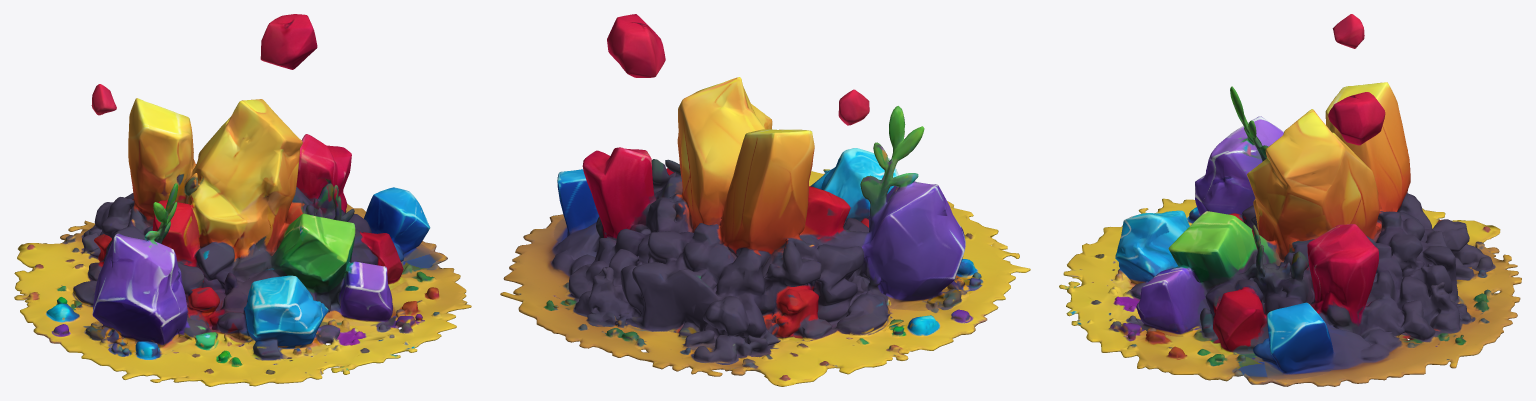
Rendered from GemFloating.fbx.
3 views of the same model, side by side, from view 1: azimuth 30°, elevation 25°; view 2: azimuth 150°, elevation 25°; view 3: azimuth 270°, elevation 25° (orthographic). The views are drawn at different scales.
Parts seen in each view (by area): view 1: texture_v100; view 2: texture_v100; view 3: texture_v100.
Part boxes in pixels (x1=…): texture_v100: x1=14, y1=14, x2=471, y2=386; texture_v100: x1=500, y1=14, x2=1030, y2=386; texture_v100: x1=1059, y1=14, x2=1521, y2=386.
Bounding box in the file's own units: 100 × 56.43 × 99.71.
1 material, 1 textured.
